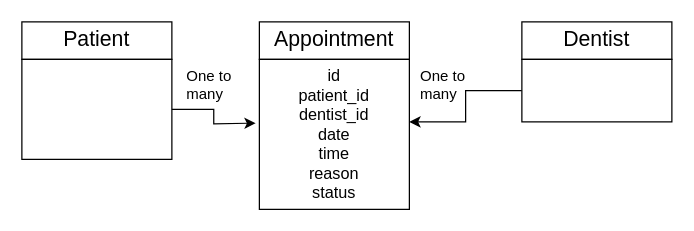
This 694x231 diagram has some shape labels left out. Each missing label, with the centre of its shape:
"id name age phone email" belongs at [96,108].
"id name specialty" belongs at [596,90].
